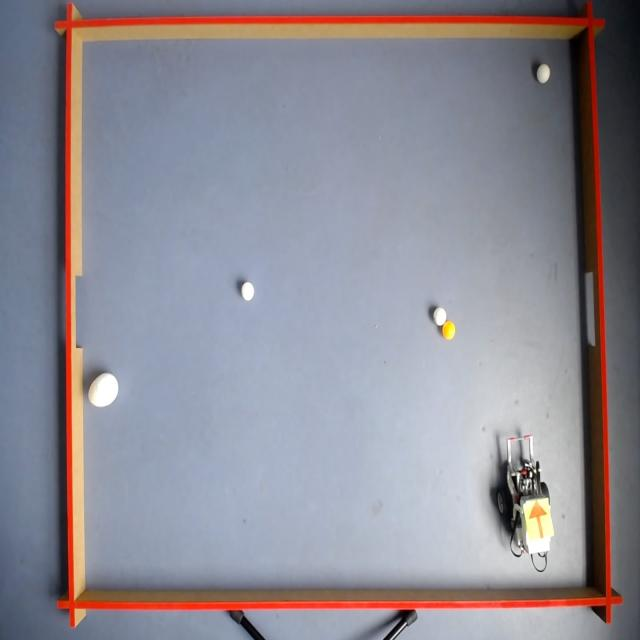egg: (86, 371, 120, 411)
orange_ball: (442, 320, 456, 342)
robot: (522, 497, 554, 543)
white_ball: (536, 62, 551, 85), (241, 280, 255, 303), (432, 306, 447, 327)
